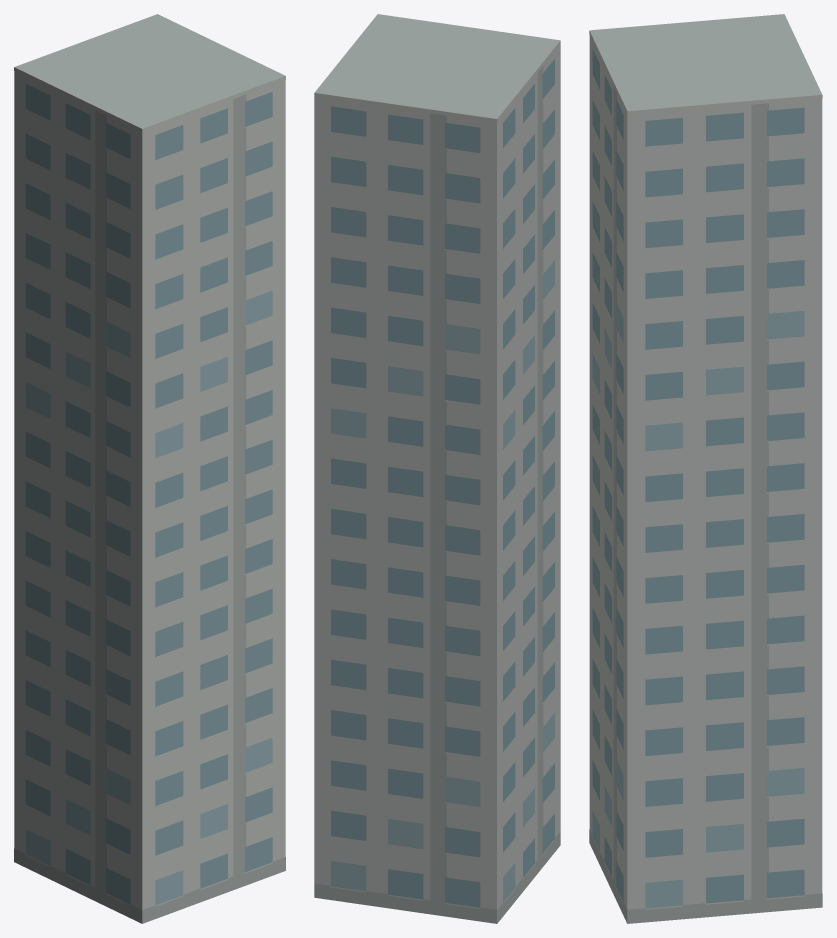
Rendered from residential-ca1c5c4a-d9d4-4080-a549-f08bc1b8d41e.glb.
The picture shows the model from 3 angles, left to right: view 1: azimuth 30°, elevation 25°; view 2: azimuth 150°, elevation 25°; view 3: azimuth 270°, elevation 25°; orthographic projection. The views are drawn at different scales.
Parts seen in each view (by area): view 1: residential-ca1c5c4a-d9d4-4080-a549-f08bc1b8d41e.tmp; view 2: residential-ca1c5c4a-d9d4-4080-a549-f08bc1b8d41e.tmp; view 3: residential-ca1c5c4a-d9d4-4080-a549-f08bc1b8d41e.tmp.
Part boxes in pixels (x1=…): residential-ca1c5c4a-d9d4-4080-a549-f08bc1b8d41e.tmp: x1=14, y1=14, x2=285, y2=923; residential-ca1c5c4a-d9d4-4080-a549-f08bc1b8d41e.tmp: x1=314, y1=14, x2=560, y2=923; residential-ca1c5c4a-d9d4-4080-a549-f08bc1b8d41e.tmp: x1=589, y1=14, x2=822, y2=923.
Bounding box in the file's own units: 12.83 × 50 × 13.
